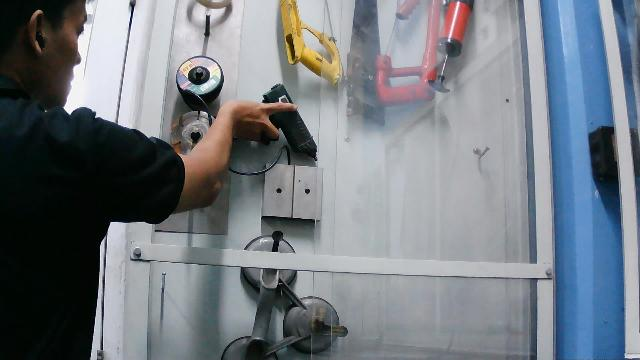gun_lem: (223, 78, 323, 165)
